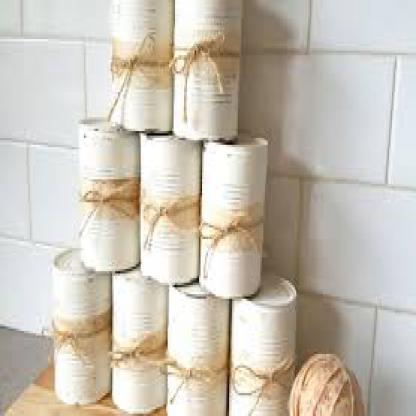METAL: (200, 131, 265, 294), (227, 271, 295, 414), (51, 246, 111, 404), (172, 0, 240, 138), (79, 119, 141, 269), (138, 128, 198, 283), (109, 257, 166, 414), (166, 276, 226, 414), (109, 0, 173, 127)
